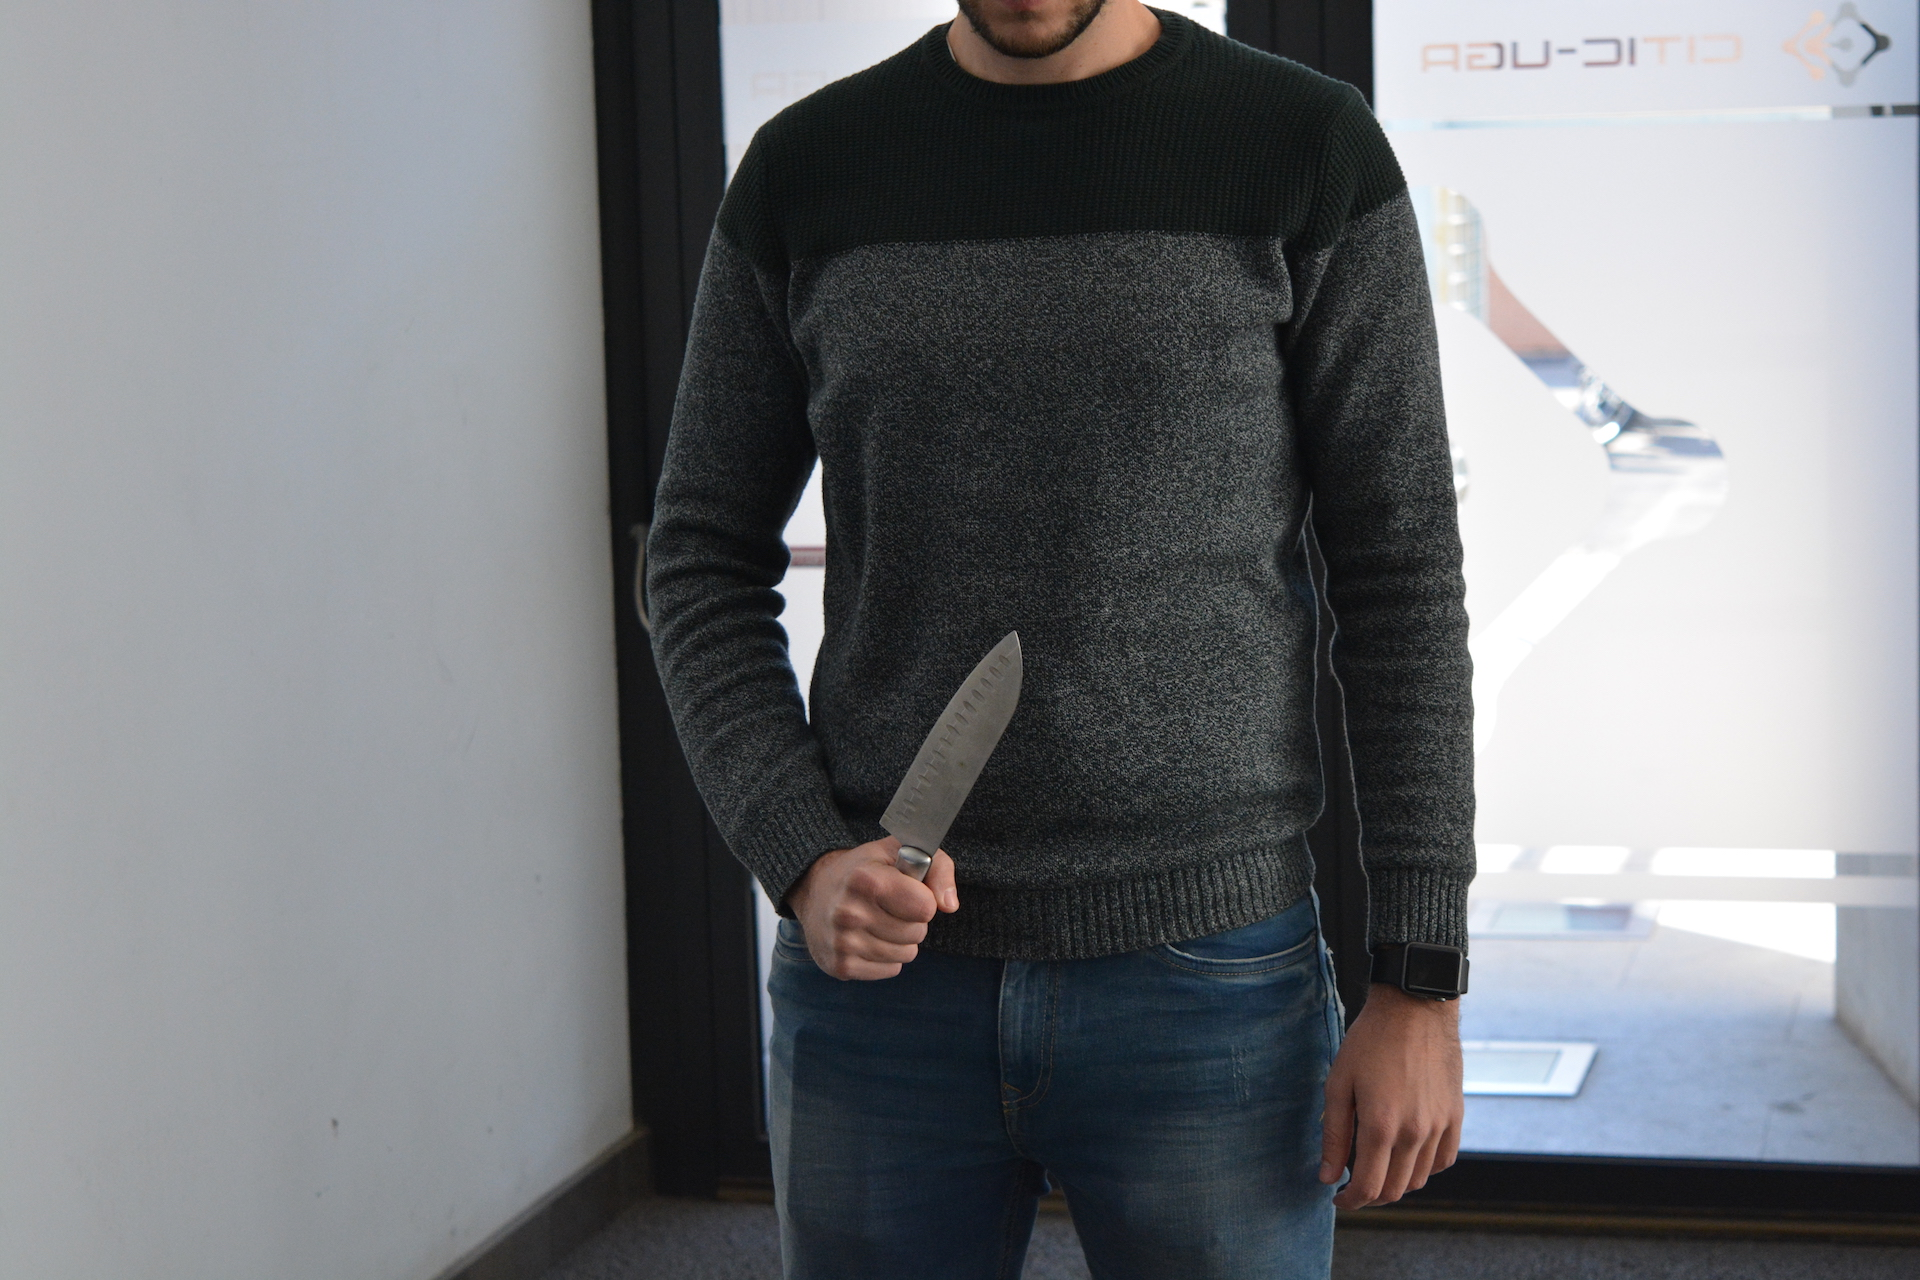knife: (867, 614, 1033, 889)
